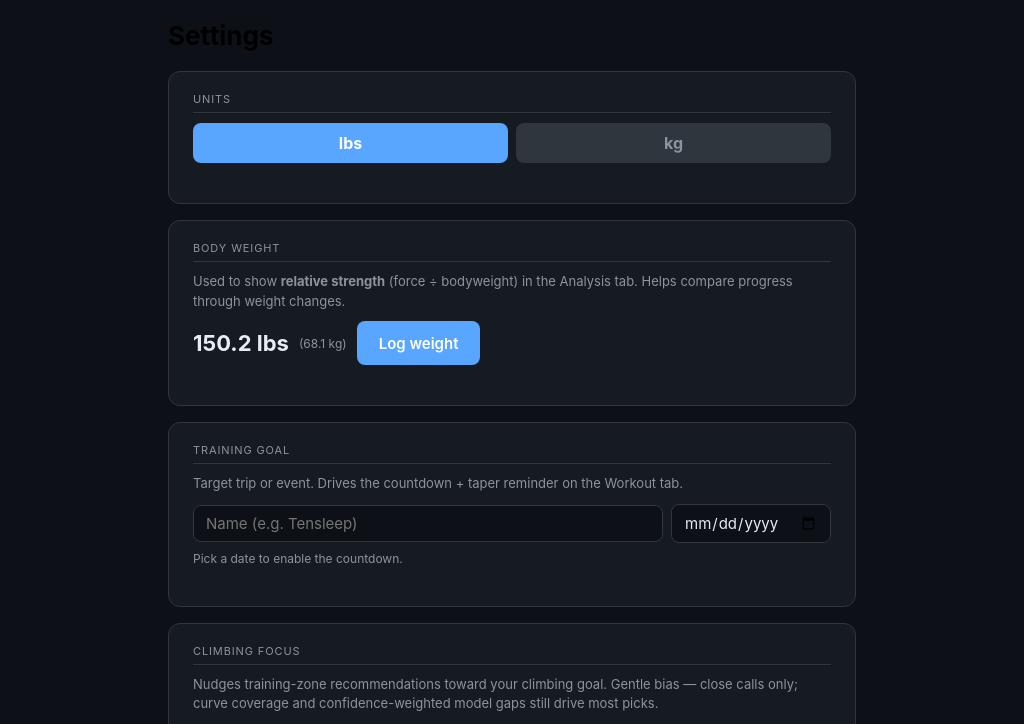
Settings retains original precision when the prefilled weight is confirmed
Click the button "Log weight" at (419, 343), box [357,321,480,365]
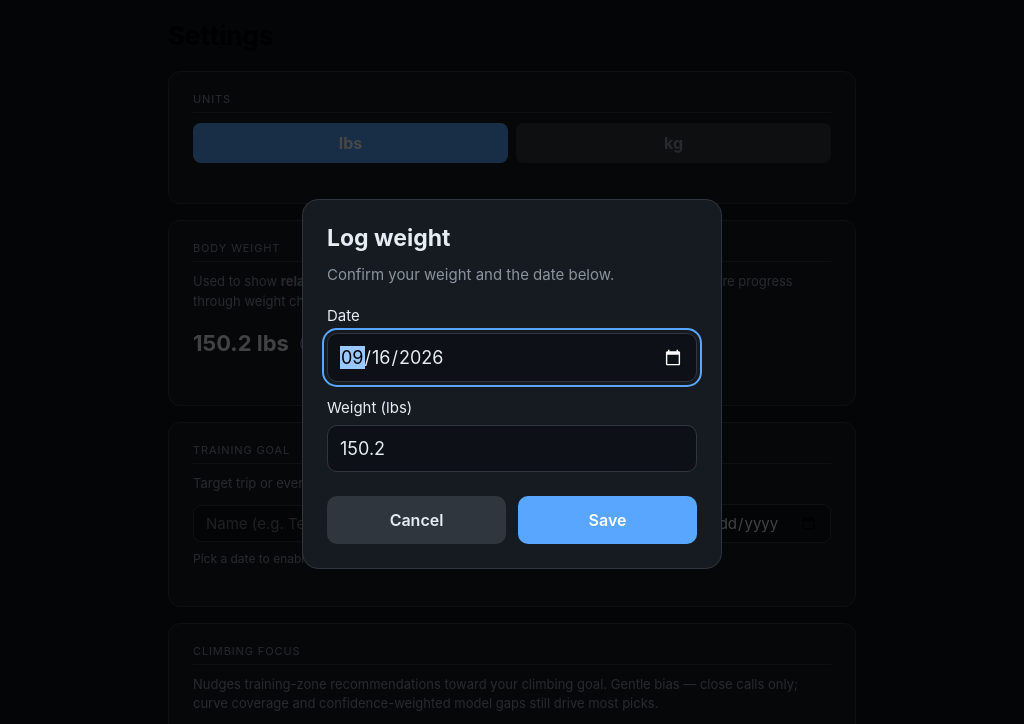
Click the button "Save" at (608, 520), box [518,496,697,544]
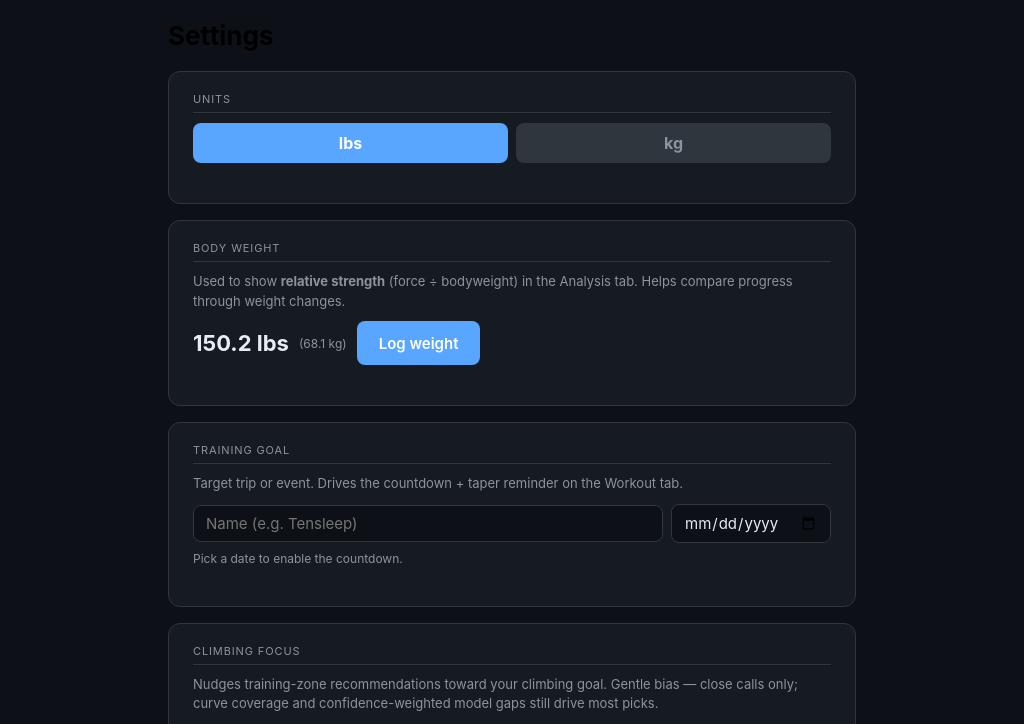
Now the dialog is gone
